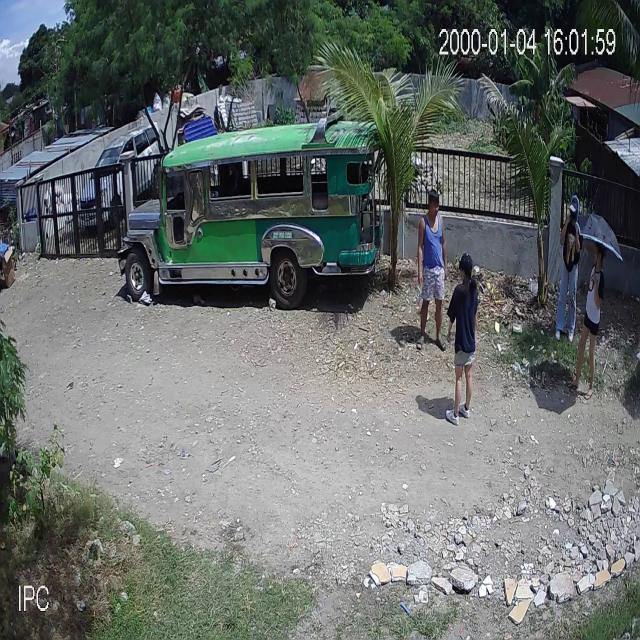standing: (443, 253, 481, 426), (568, 239, 604, 400), (415, 189, 446, 354), (554, 194, 586, 344)
